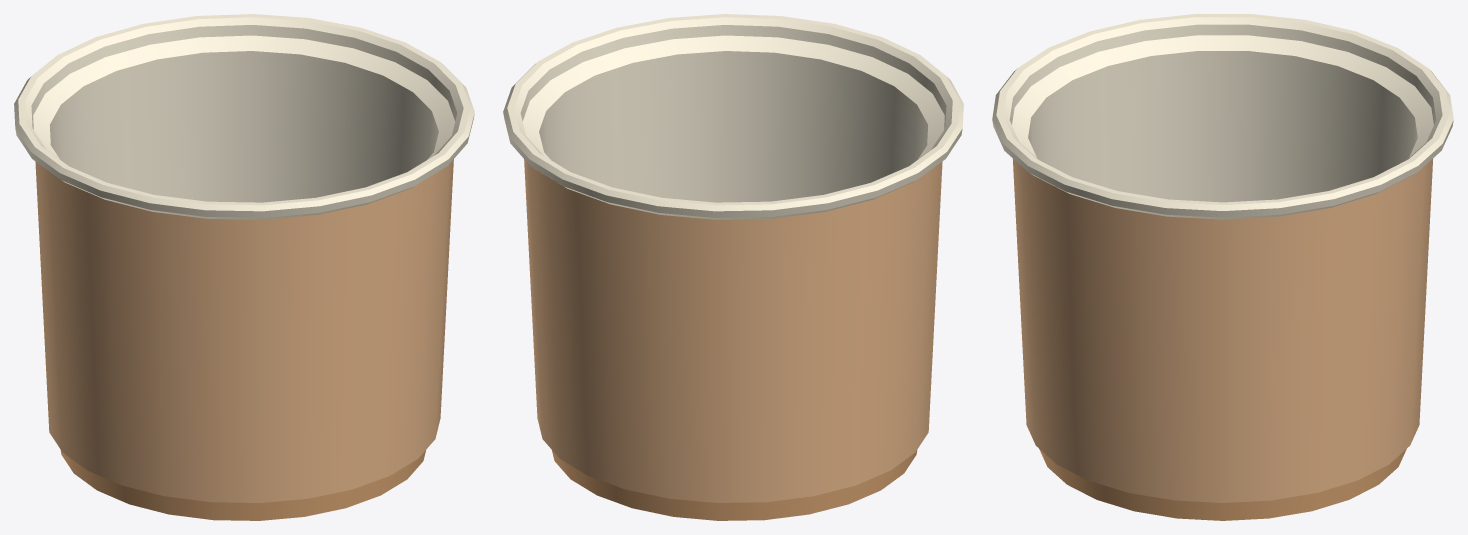
The model's file is Cup L Beige.fbx.
3 views of the same model, side by side, from view 1: azimuth 30°, elevation 25°; view 2: azimuth 150°, elevation 25°; view 3: azimuth 270°, elevation 25° (orthographic).
Visible parts, largest first — view 1: Cup L Beige; view 2: Cup L Beige; view 3: Cup L Beige.
Part boxes in pixels (x1,y1,x2,y2): Cup L Beige: (14,14,474,520); Cup L Beige: (503,14,963,520); Cup L Beige: (992,14,1453,520).
Bounding box in the file's own units: 0.8493 × 0.679 × 0.851.
